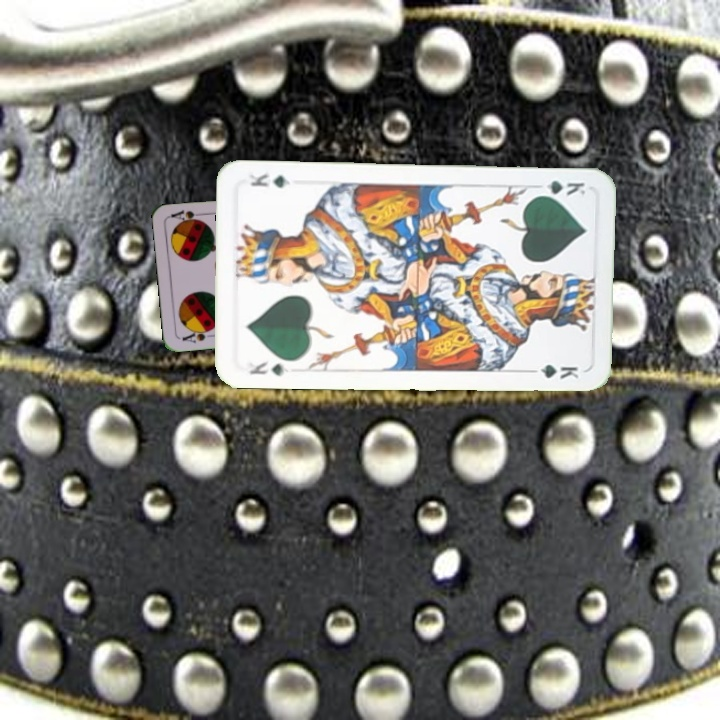GK: (531, 177, 588, 199), (246, 357, 291, 378)
SA: (178, 324, 217, 346)
